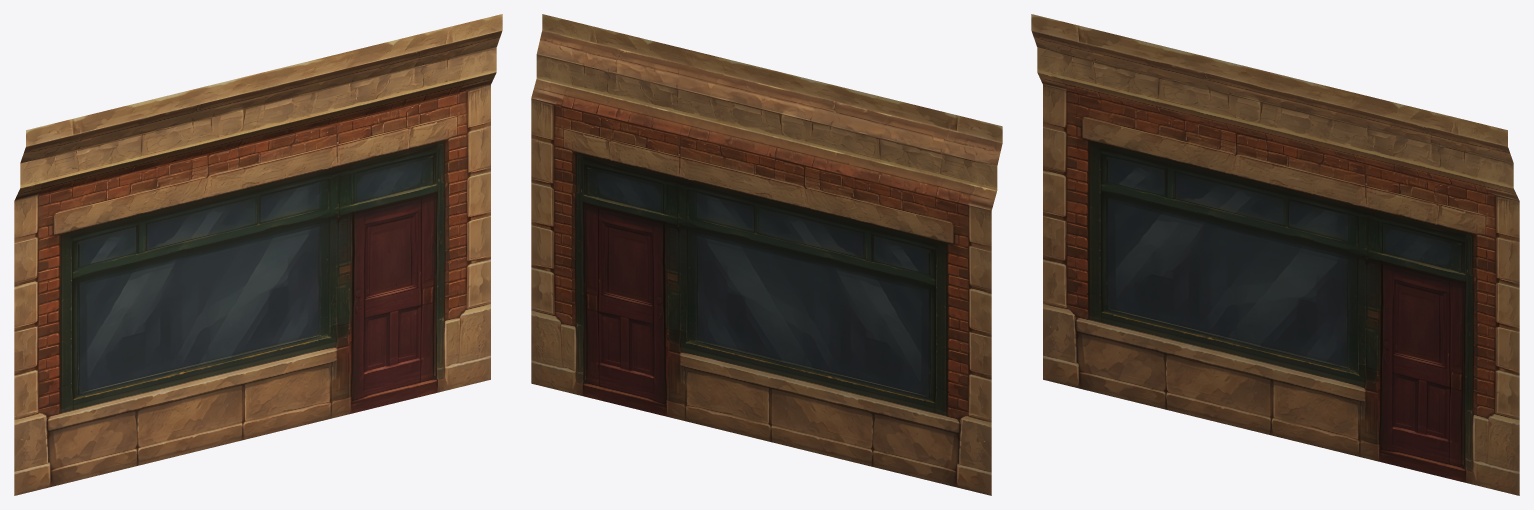
The model's file is BRK_G_Bay6A.fbx.
3 renders of one model, left to right at view 1: azimuth 30°, elevation 25°; view 2: azimuth 150°, elevation 25°; view 3: azimuth 330°, elevation 25°, orthographic. The views are drawn at different scales.
Parts seen in each view (by area): view 1: BRK_G_Bay6A; view 2: BRK_G_Bay6A; view 3: BRK_G_Bay6A.
Boxes of the visible parts, box(x1,y1,x2,y2) form: BRK_G_Bay6A: box(14, 14, 502, 495); BRK_G_Bay6A: box(531, 14, 1002, 495); BRK_G_Bay6A: box(1031, 14, 1519, 495).
Size of the model in its own units: 6 by 0.25 by 4.5.
Materials: 1 (1 with a texture image).
